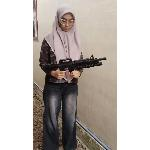Senapan: (36, 54, 110, 80)
